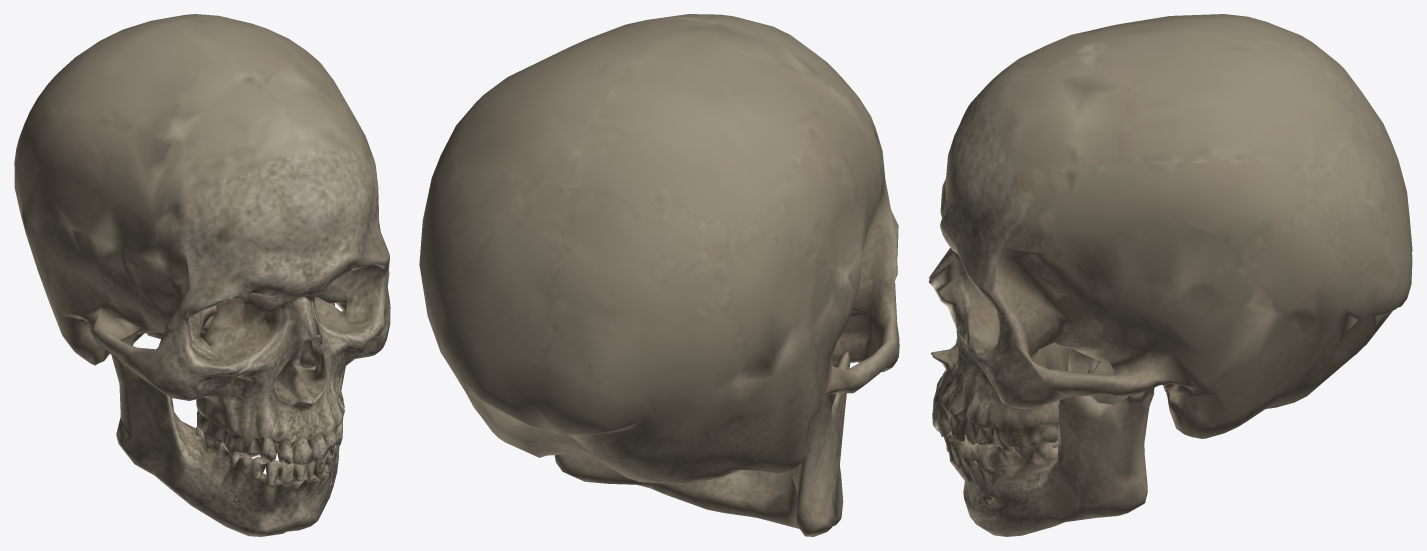
Rendered from skull.glb.
3 renders of one model, left to right at view 1: azimuth 30°, elevation 25°; view 2: azimuth 150°, elevation 25°; view 3: azimuth 270°, elevation 25°, orthographic. The views are drawn at different scales.
Size of the model in its own units: 1.33 by 1.9 by 1.7.
Materials: 1 (1 with a texture image).
